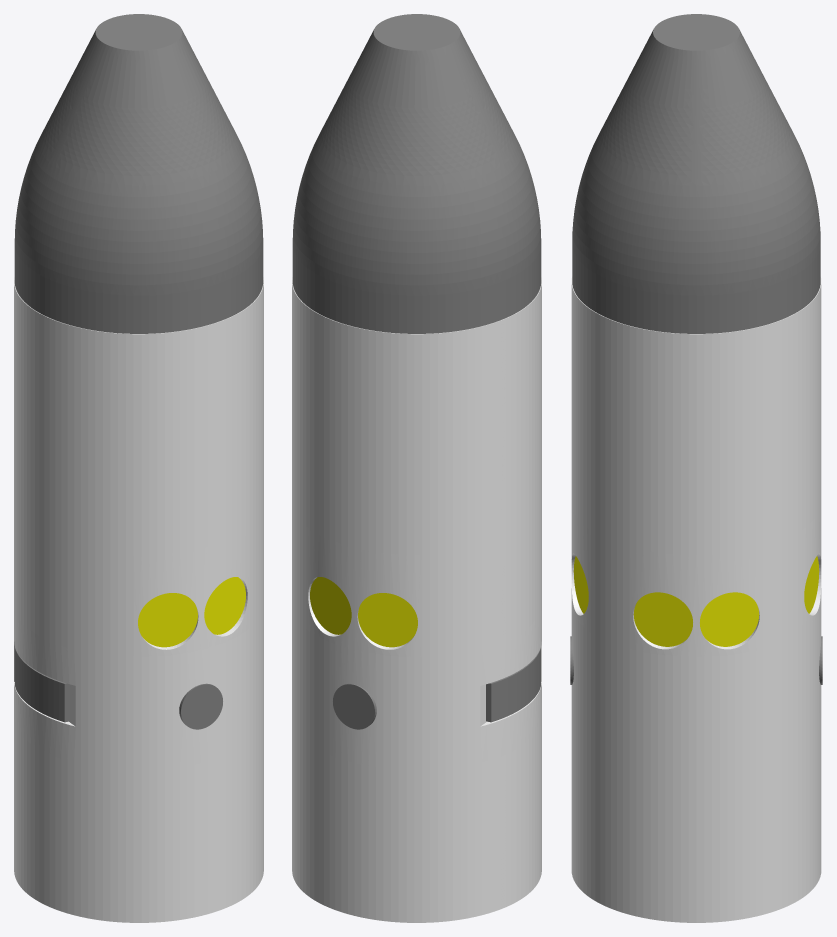
The model's file is link_5_color.dae.
3 renders of one model, left to right at view 1: azimuth 30°, elevation 25°; view 2: azimuth 150°, elevation 25°; view 3: azimuth 270°, elevation 25°, orthographic.
Parts seen in each view (by area): view 1: joint; view 2: joint; view 3: joint.
Part boxes in pixels (x1,y1,x2,y2): joint: (14, 14, 263, 922); joint: (292, 14, 541, 922); joint: (570, 14, 822, 922).
Bounding box in the file's own units: 0.2 × 0.202 × 0.74.
